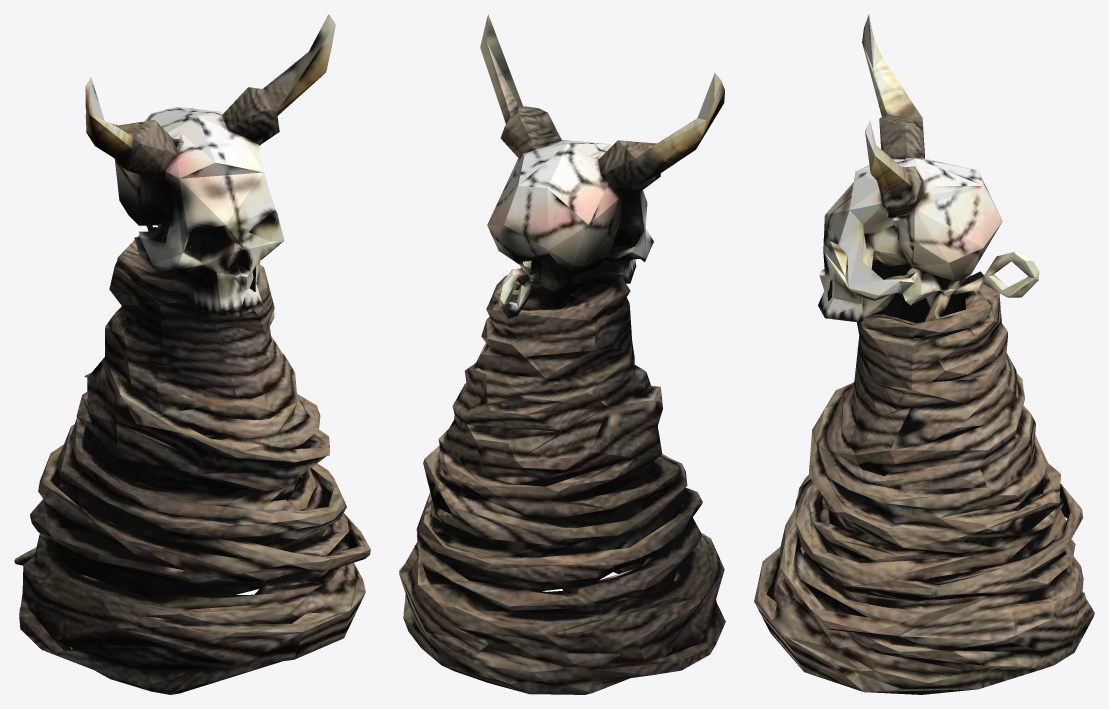
The model's file is ogre_skull_pile_01.glb.
The picture shows the model from 3 angles, left to right: view 1: azimuth 30°, elevation 25°; view 2: azimuth 150°, elevation 25°; view 3: azimuth 270°, elevation 25°; orthographic projection. The views are drawn at different scales.
Parts seen in each view (by area): view 1: geometry_0; view 2: geometry_0; view 3: geometry_0.
Part boxes in pixels (<box>): geometry_0: <box>14,14,370,694</box>; geometry_0: <box>399,14,725,694</box>; geometry_0: <box>754,14,1094,694</box>.
Bounding box in the file's own units: 0.5073 × 1 × 0.5363.
Materials: 1 (1 with a texture image).
